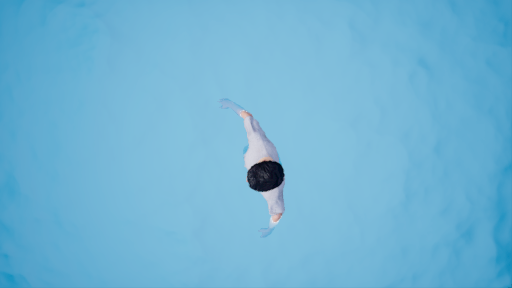person: (214, 98, 299, 235)
